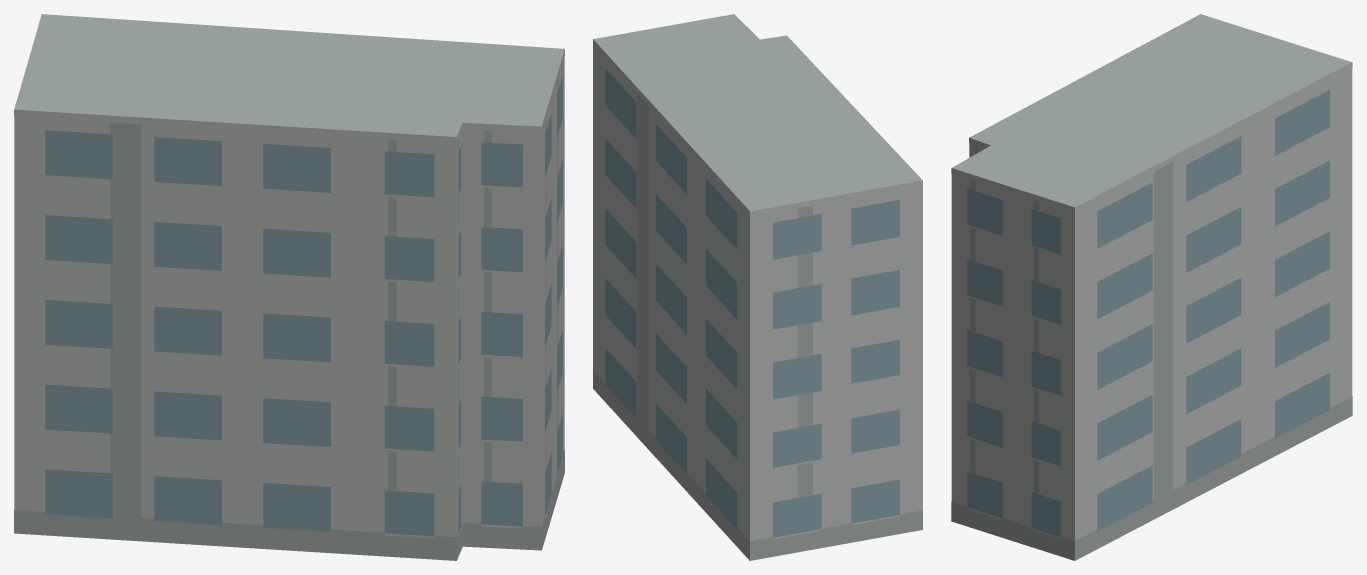
File: residential-52bfa51f-755f-41a8-a91c-e18504d2a7cf.glb
3 renders of one model, left to right at view 1: azimuth 30°, elevation 25°; view 2: azimuth 150°, elevation 25°; view 3: azimuth 270°, elevation 25°, orthographic. The views are drawn at different scales.
Visible parts, largest first — view 1: residential-52bfa51f-755f-41a8-a91c-e18504d2a7cf.tmp; view 2: residential-52bfa51f-755f-41a8-a91c-e18504d2a7cf.tmp; view 3: residential-52bfa51f-755f-41a8-a91c-e18504d2a7cf.tmp.
Boxes of the visible parts, bbox=[...] form: residential-52bfa51f-755f-41a8-a91c-e18504d2a7cf.tmp: bbox=[14, 14, 564, 560]; residential-52bfa51f-755f-41a8-a91c-e18504d2a7cf.tmp: bbox=[593, 14, 922, 560]; residential-52bfa51f-755f-41a8-a91c-e18504d2a7cf.tmp: bbox=[951, 14, 1352, 560].
Bounding box in the file's own units: 17.9 × 15.25 × 15.68.
